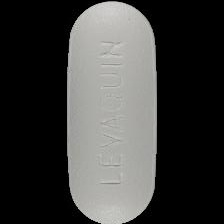67296-0584: (0, 0, 224, 224)
